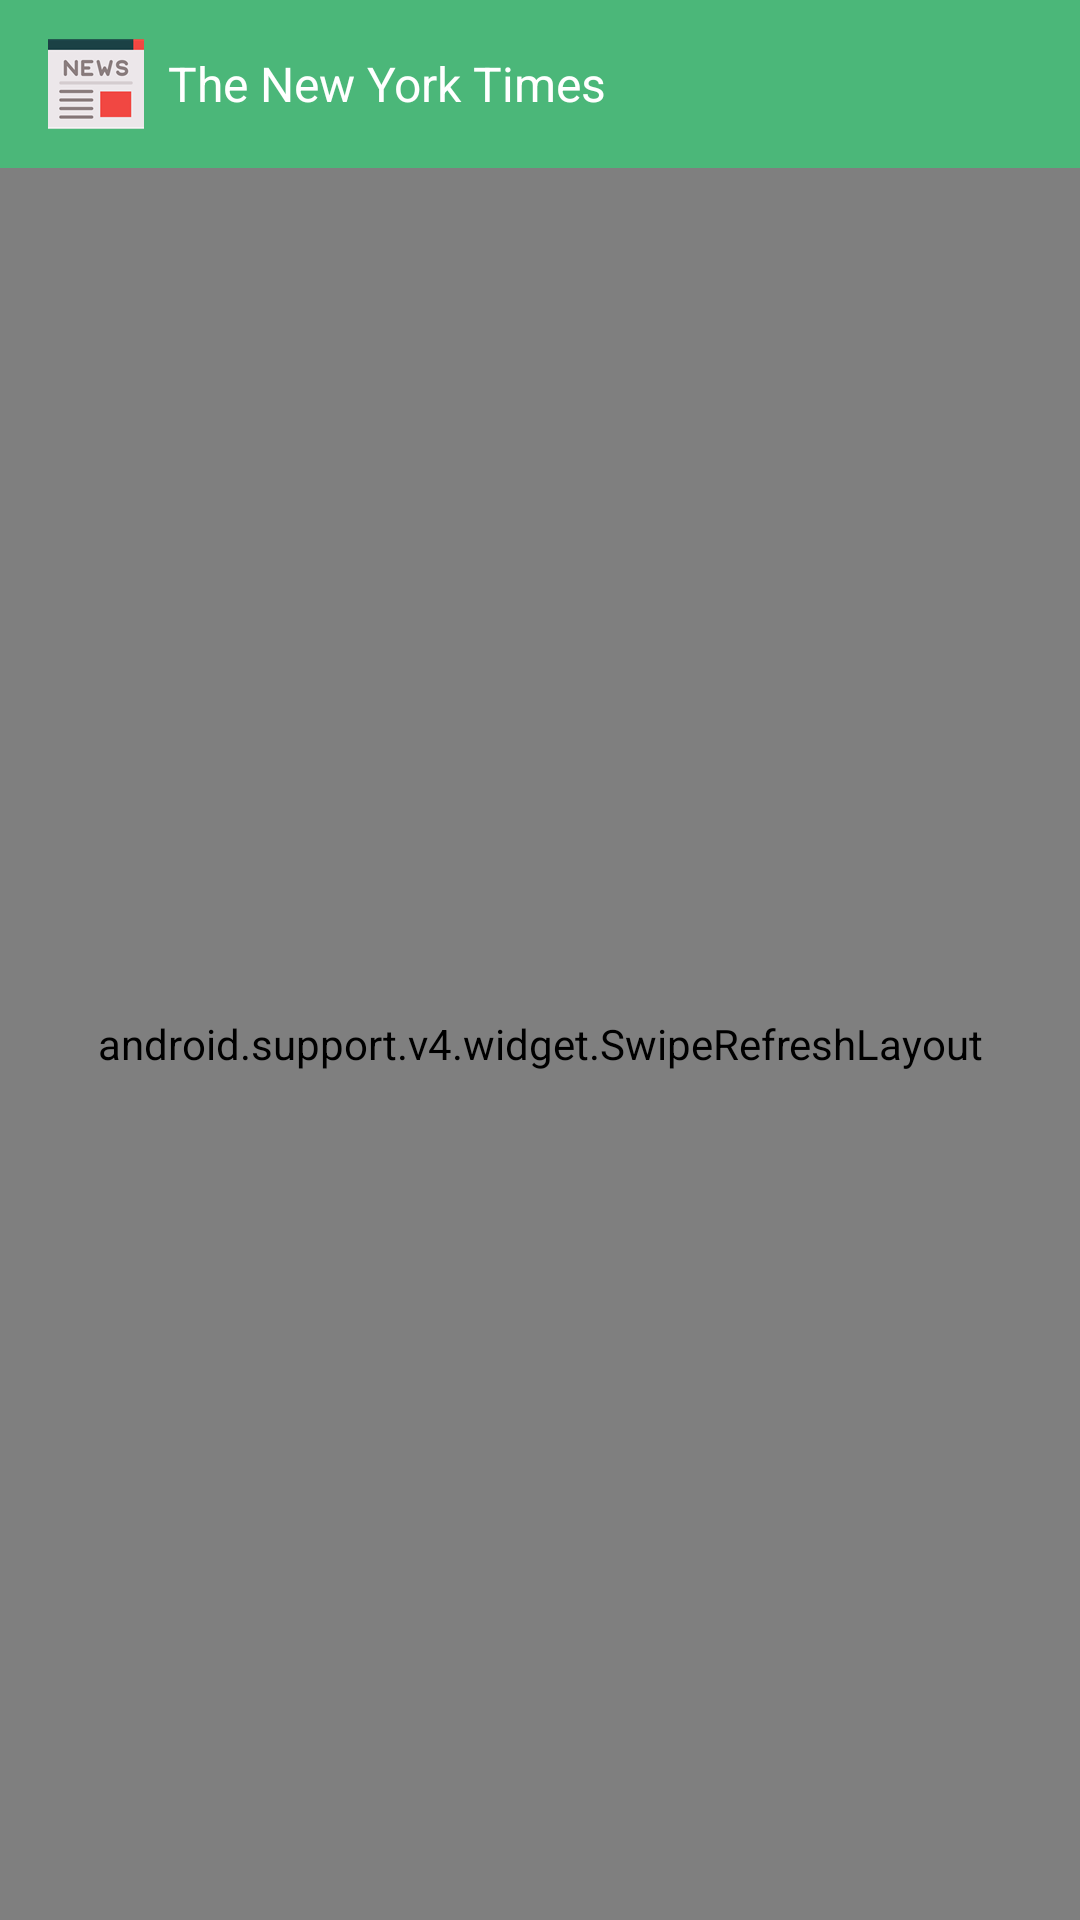

Icon click points for this 1080px×1920px phone screenshot, format [x,y]:
news image: [96,84]
